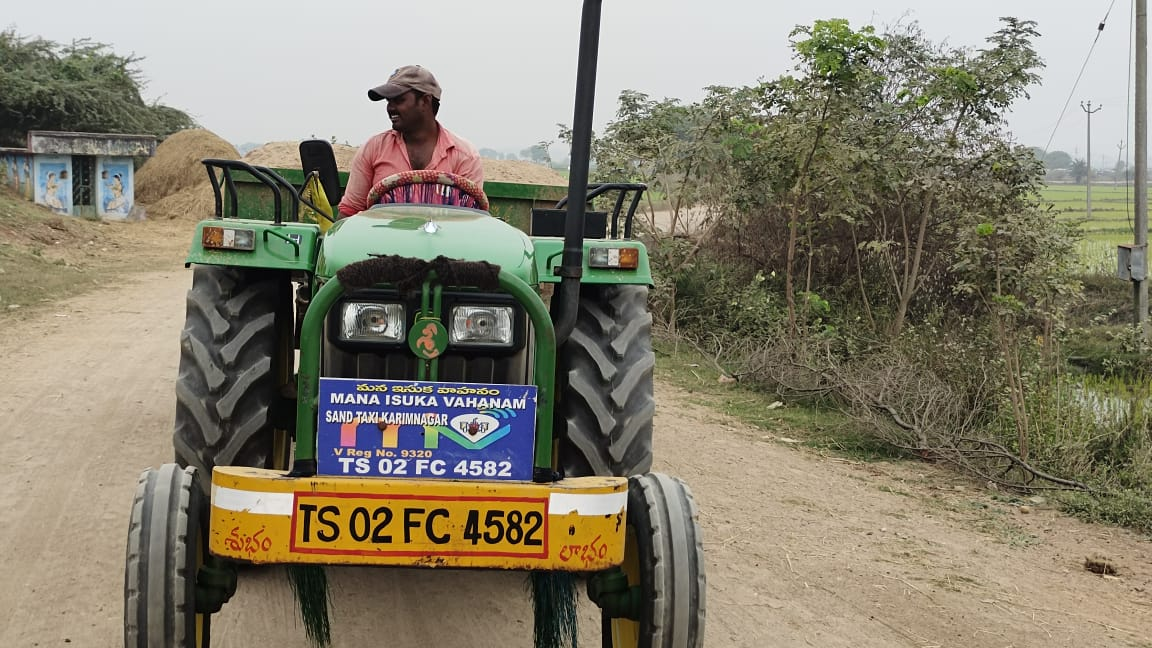num_plate: (291, 492, 556, 558)
